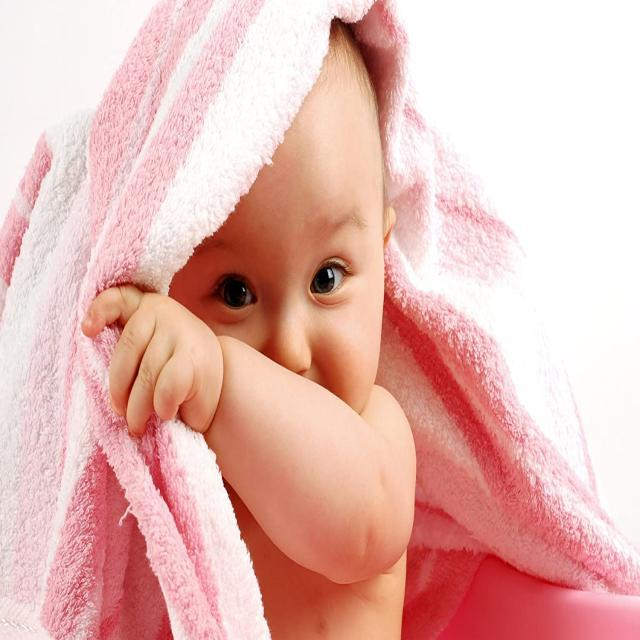non-dog: (81, 16, 417, 640)
